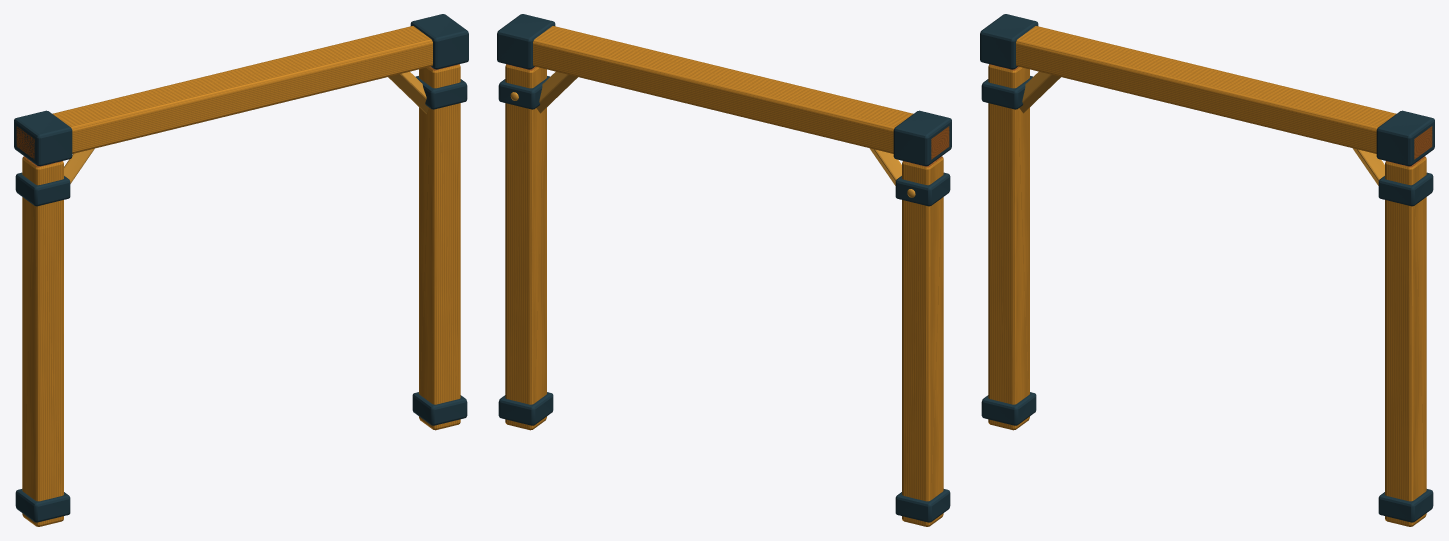
Rendered from Building_Tunnel_SupportFrame_001.glb.
The picture shows the model from 3 angles, left to right: view 1: azimuth 30°, elevation 25°; view 2: azimuth 150°, elevation 25°; view 3: azimuth 330°, elevation 25°; orthographic projection.
Parts seen in each view (by area): view 1: SupportFrame_Body; view 2: SupportFrame_Body; view 3: SupportFrame_Body.
Part boxes in pixels (x1,y1,x2,y2): SupportFrame_Body: [14, 14, 468, 526]; SupportFrame_Body: [497, 14, 951, 526]; SupportFrame_Body: [980, 14, 1434, 526].
Bounding box in the file's own units: 3.71 × 3.25 × 0.38.
Materials: 1 (1 with a texture image).
